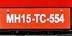1: (21, 14, 26, 24)
4: (59, 13, 66, 23)
5: (25, 13, 32, 24), (49, 14, 55, 23), (54, 14, 60, 23)
C: (40, 13, 47, 24)
H: (14, 14, 21, 24)
M: (6, 14, 14, 24)
T: (33, 13, 40, 24)
